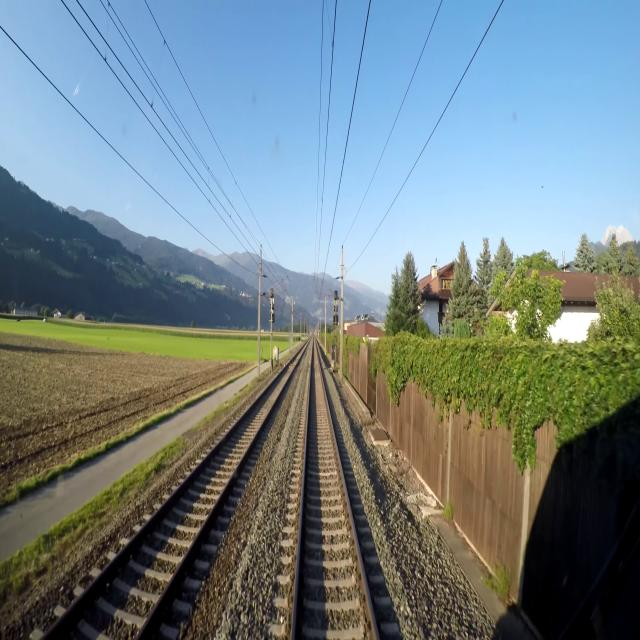rail-track: (44, 353, 300, 639), (295, 345, 375, 639)
